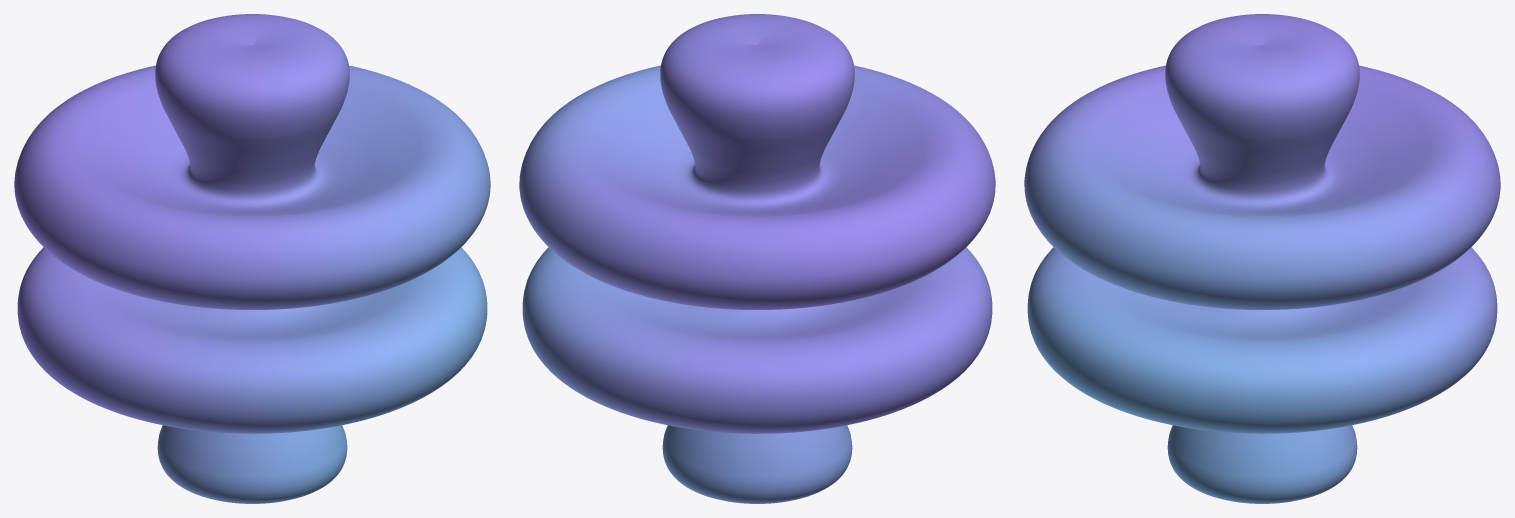
The model's file is 03_swirlnut_static.glb.
3 renders of one model, left to right at view 1: azimuth 30°, elevation 25°; view 2: azimuth 150°, elevation 25°; view 3: azimuth 270°, elevation 25°, orthographic.
Visible parts, largest first — view 1: 03_swirlnut.2; view 2: 03_swirlnut.2; view 3: 03_swirlnut.2.
Part boxes in pixels (left/top/right/bottom): 03_swirlnut.2: left=14, top=14, right=490, bottom=503; 03_swirlnut.2: left=519, top=14, right=995, bottom=503; 03_swirlnut.2: left=1024, top=14, right=1500, bottom=503.
Size of the model in its own units: 0.1251 by 0.1258 by 0.1251.
Materials: 1 (1 with a texture image).
